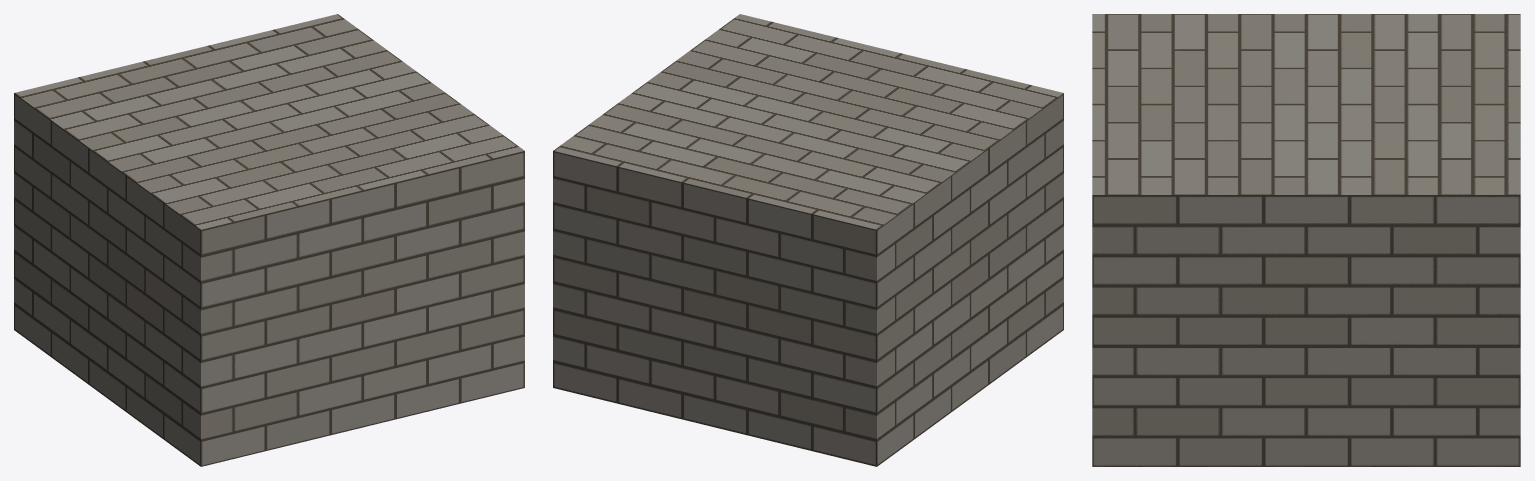
The model's file is dungeon_plinth.glb.
3 views of the same model, side by side, from view 1: azimuth 30°, elevation 25°; view 2: azimuth 150°, elevation 25°; view 3: azimuth 270°, elevation 25° (orthographic). The views are drawn at different scales.
Visible parts, largest first — view 1: dungeon_plinth; view 2: dungeon_plinth; view 3: dungeon_plinth.
Boxes of the visible parts, <box> form: dungeon_plinth: <box>14,14,524,466</box>; dungeon_plinth: <box>553,14,1063,466</box>; dungeon_plinth: <box>1092,14,1520,466</box>.
Size of the model in its own units: 5 by 3.5 by 5.
1 material, 1 textured.
